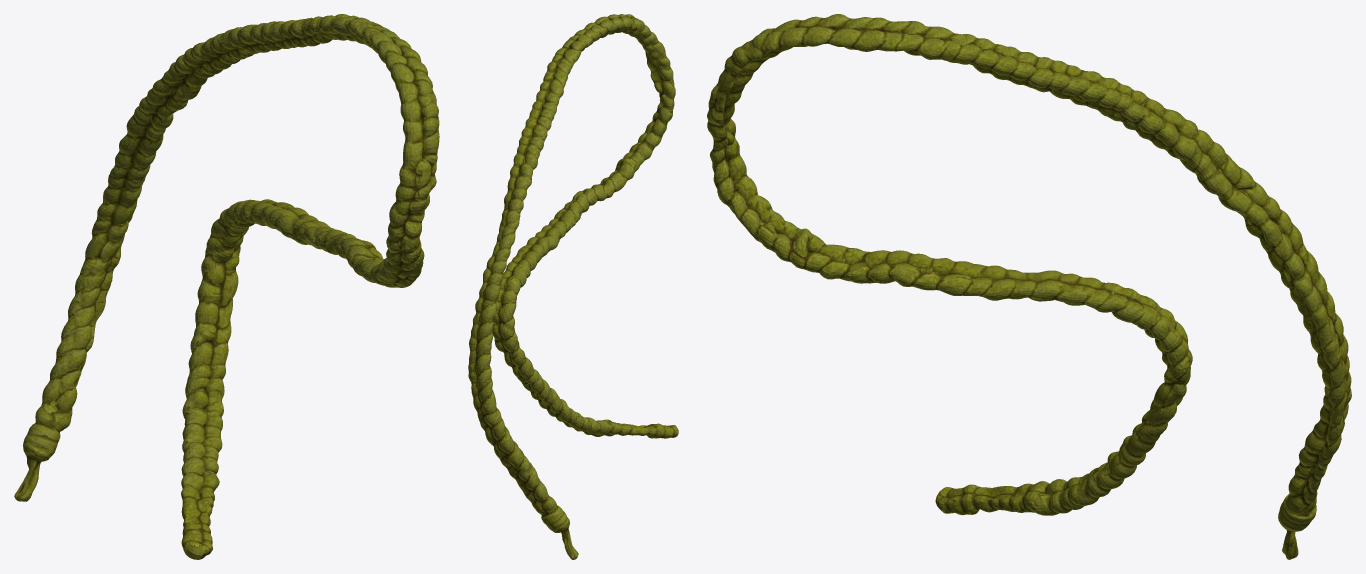
File: army_lanyard_sa_ma.glb
3 views of the same model, side by side, from view 1: azimuth 30°, elevation 25°; view 2: azimuth 150°, elevation 25°; view 3: azimuth 270°, elevation 25° (orthographic). The views are drawn at different scales.
Parts seen in each view (by area): view 1: accessory; view 2: accessory; view 3: accessory.
Part boxes in pixels (left/top/right/bottom): accessory: left=14, top=14, right=439, bottom=559; accessory: left=468, top=14, right=678, bottom=559; accessory: left=707, top=14, right=1351, bottom=559.
Bounding box in the file's own units: 0.1069 × 0.3 × 0.2789.
1 material, 1 textured.
